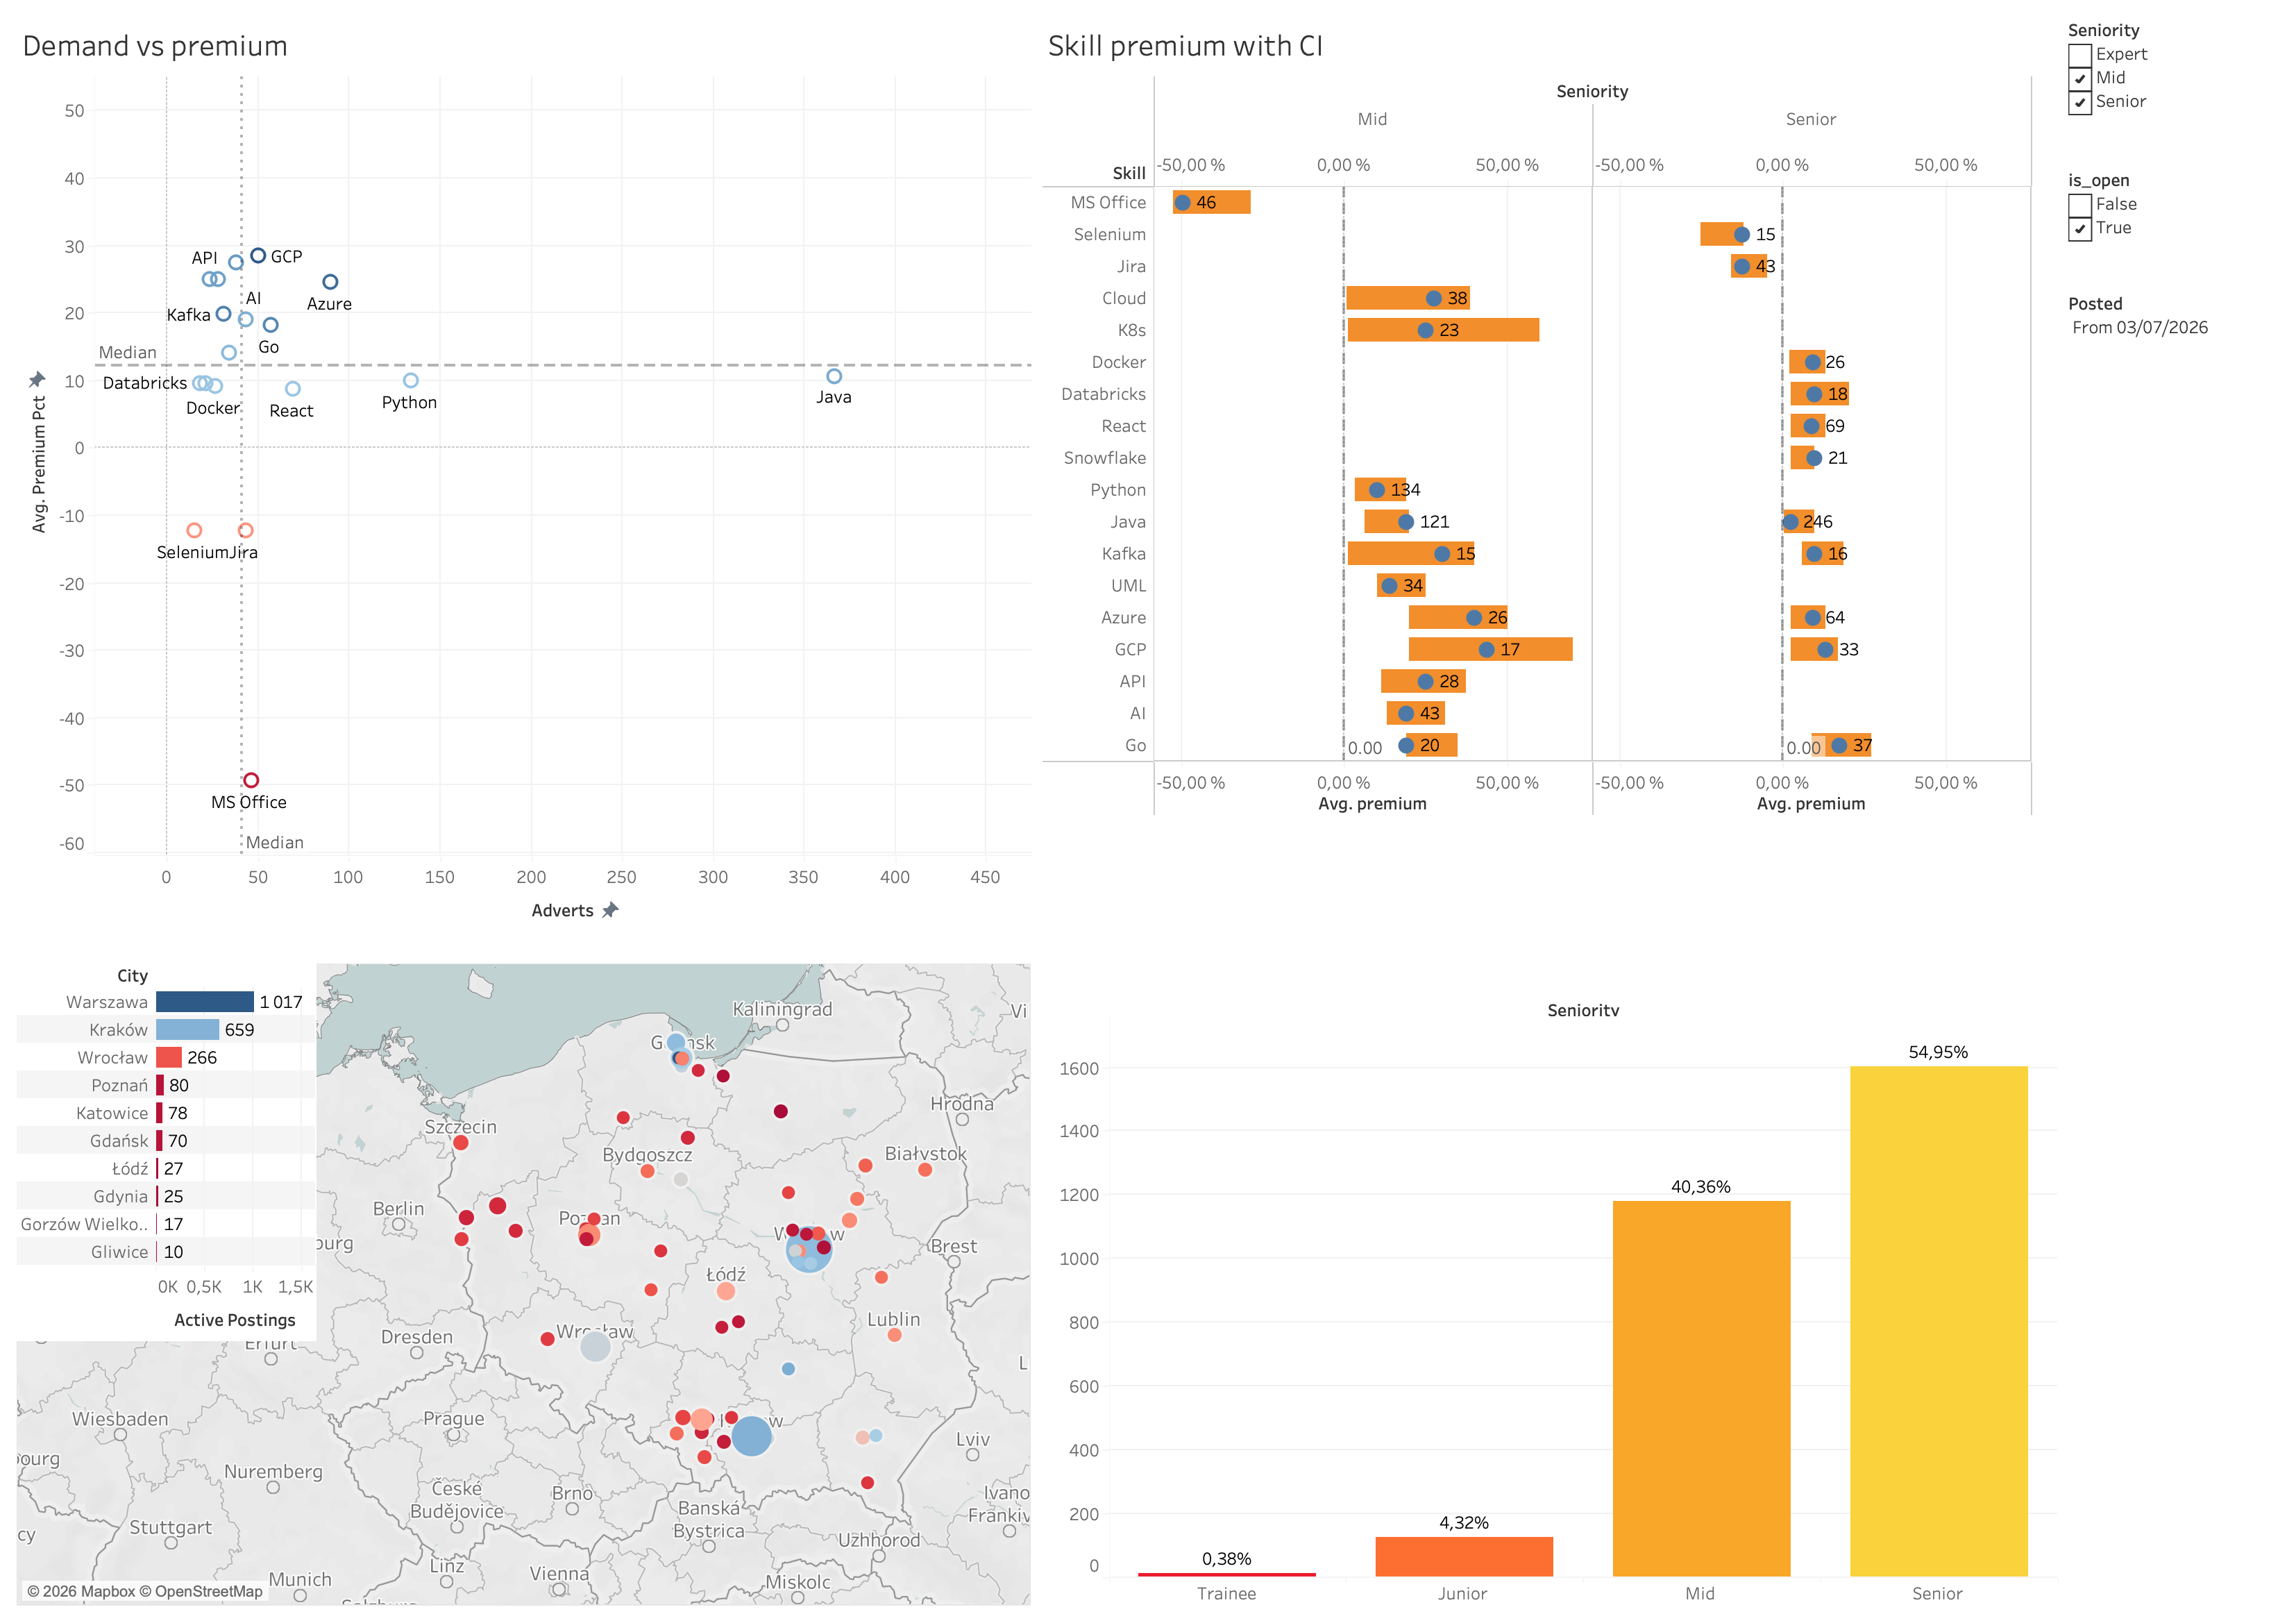

The page's visual inventory and layout, read from the dashboard file:
{"tool":"tableau","page":{"name":"Dashboard 1","canvas":[1654,1169],"ordinal":0},"visuals":[{"type":"worksheet","title":"Demand vs premium","mark":"Automatic","rows":["premium_pct"],"cols":["adverts"],"box":[8,8,739,667]},{"type":"worksheet","title":"Skill premium with CI","mark":"GanttBar","rows":["skill"],"cols":["seniority","premium_low","premium_pct"],"box":[747,8,739,667]},{"type":"filter","title":"Demand vs premium","param":"[federated.1xp6yg01dpcwyo1dco4tu1anzh2i].[none:seniority:nk]","box":[1486,8,160,108]},{"type":"filter","title":"Map","param":"[federated.0omsout1bp92c012d18az0y6yaxb].[none:is_open:nk]","box":[1486,116,160,89]},{"type":"filter","title":"Seniority mix","param":"[federated.0omsout1bp92c012d18az0y6yaxb].[none:posted:qk]","box":[1486,205,160,69]},{"type":"worksheet","title":"Map","mark":"Automatic","rows":["latitude"],"cols":["longitude"],"box":[8,675,739,486]},{"type":"worksheet","title":"Seniority mix","mark":"Automatic","rows":["jobs.csv_CC4032116BB34234A3073378D4293141"],"cols":["seniority"],"box":[747,675,739,486]},{"type":"worksheet","title":"Top 10","mark":"Automatic","rows":["city"],"cols":["jobs.csv_CC4032116BB34234A3073378D4293141"],"box":[12,676,215,315]}]}

Visuals, with their boxes in screenshot pixels (x1, y1, x2, y2), scaled from the page's 1654x1169 canvas onto the 2296x1623 screenshot:
"Demand vs premium" worksheet: bbox=(11, 11, 1037, 937)
"Skill premium with CI" worksheet (GanttBar marks): bbox=(1037, 11, 2063, 937)
"Demand vs premium" filter: bbox=(2063, 11, 2285, 161)
"Map" filter: bbox=(2063, 161, 2285, 285)
"Seniority mix" filter: bbox=(2063, 285, 2285, 380)
"Map" worksheet: bbox=(11, 937, 1037, 1612)
"Seniority mix" worksheet: bbox=(1037, 937, 2063, 1612)
"Top 10" worksheet: bbox=(17, 939, 315, 1376)
